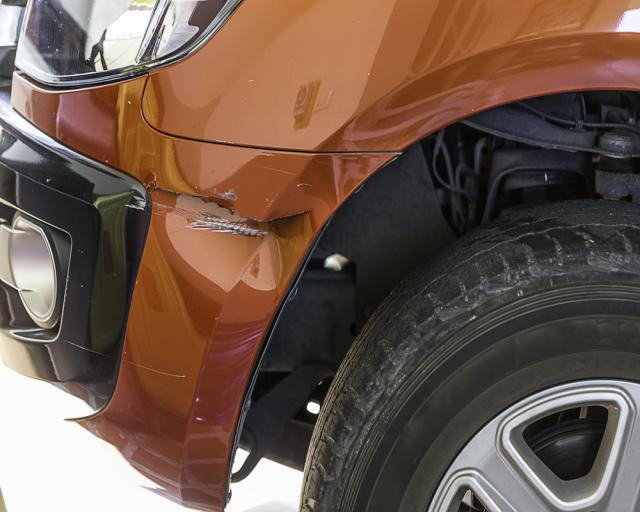crack: (151, 187, 311, 224)
dent: (165, 195, 311, 289)
